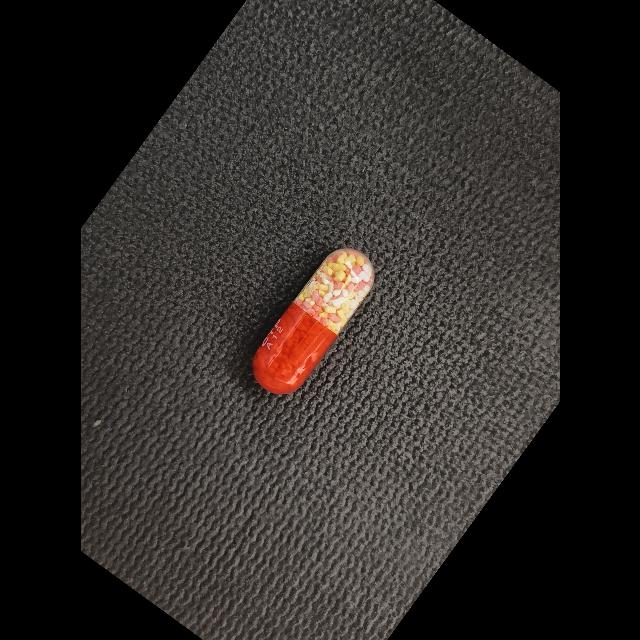Intact Capsule: (252, 248, 374, 394)
